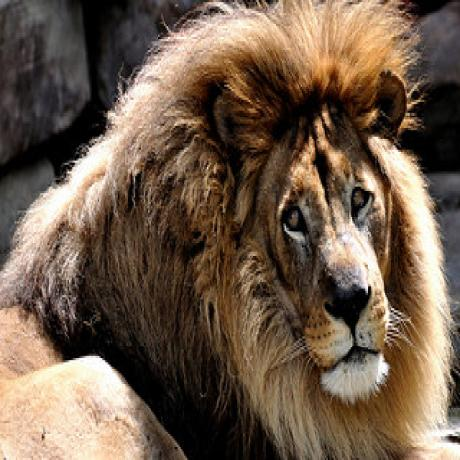Lion: (0, 0, 456, 460)
